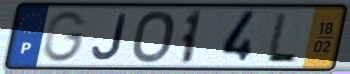1: (182, 7, 206, 67)
4: (217, 8, 258, 67)
G: (41, 10, 90, 64)
J: (90, 12, 130, 62)
L: (263, 11, 300, 65)
O: (129, 9, 177, 65)
